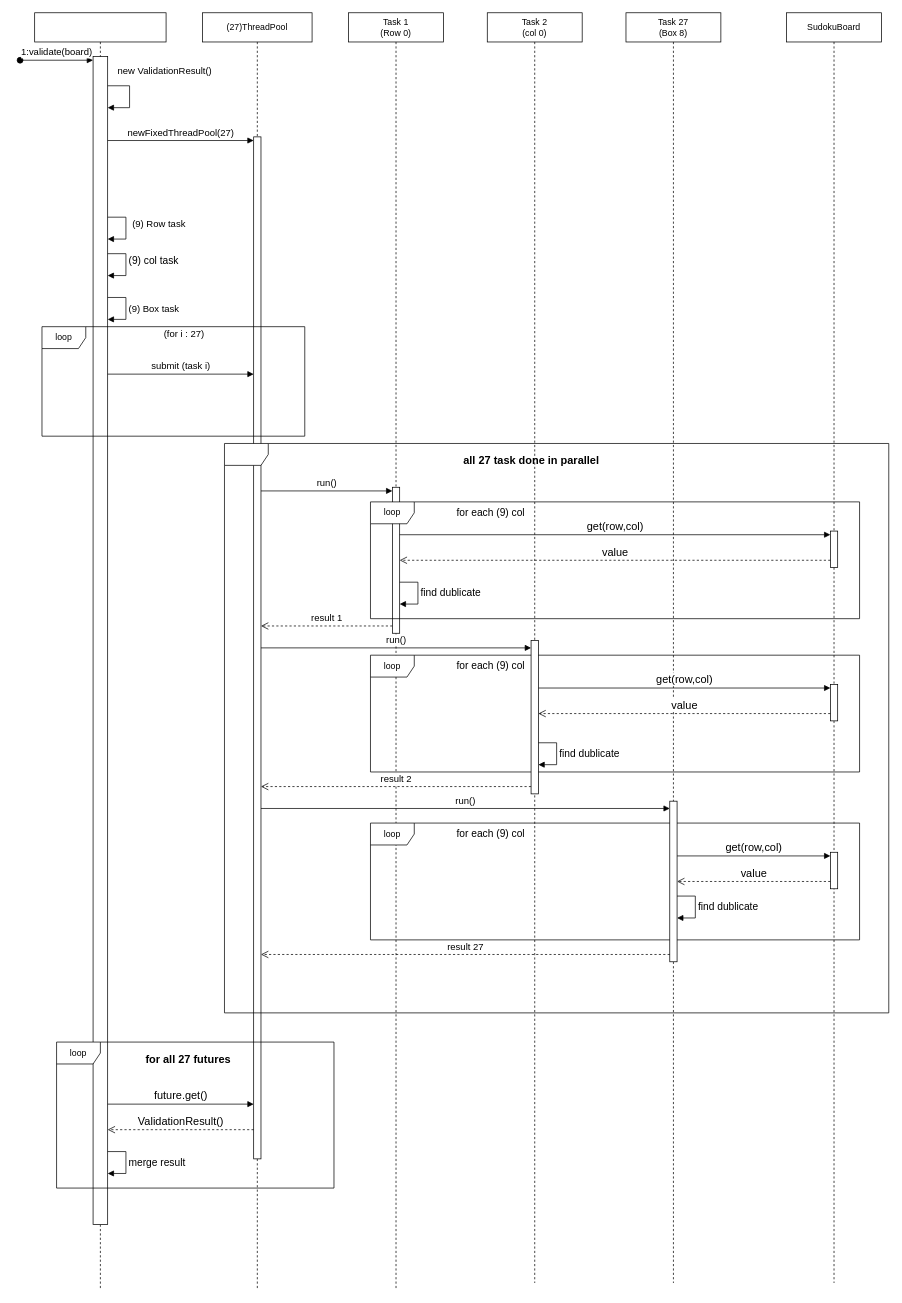
This 902x1303 diagram has some shape labels left out. The shapes that lost their labels are listed below. From the top down, each one's box as (x1, y1, x2, y2) in pixels, then its label:
(34, 12, 166, 1290): TwentySevenThreadValidator
(224, 443, 889, 1013): par
